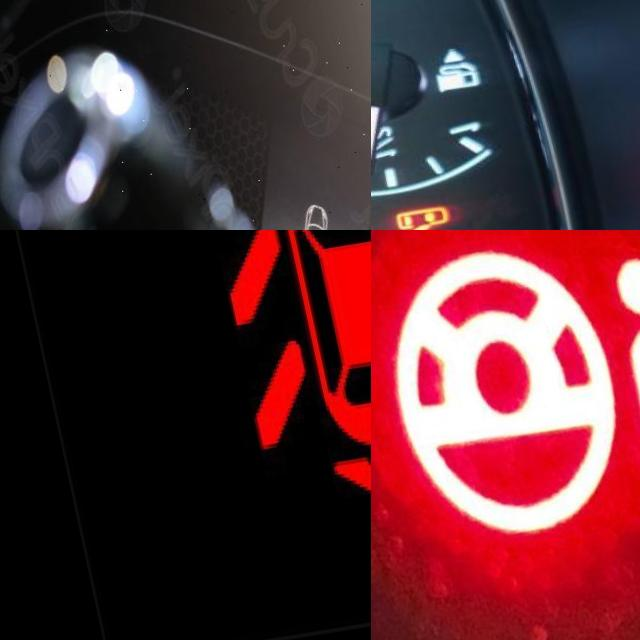Electronic Power Steering: (371, 237, 640, 556)
